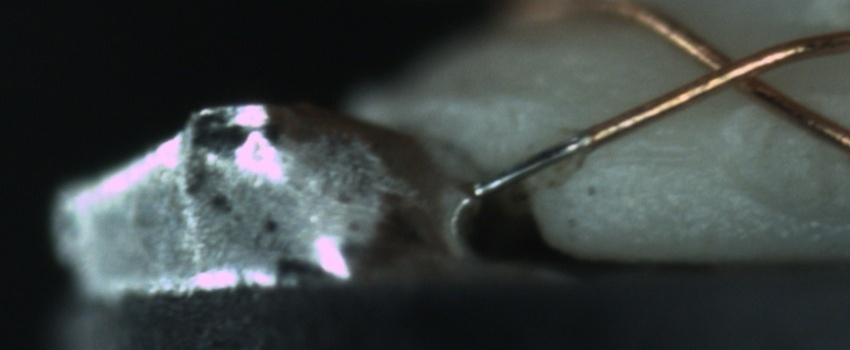CL: (682, 34, 789, 105)
DL: (574, 127, 703, 185)
TS: (466, 132, 592, 200)
TTCW: (466, 114, 625, 202)
